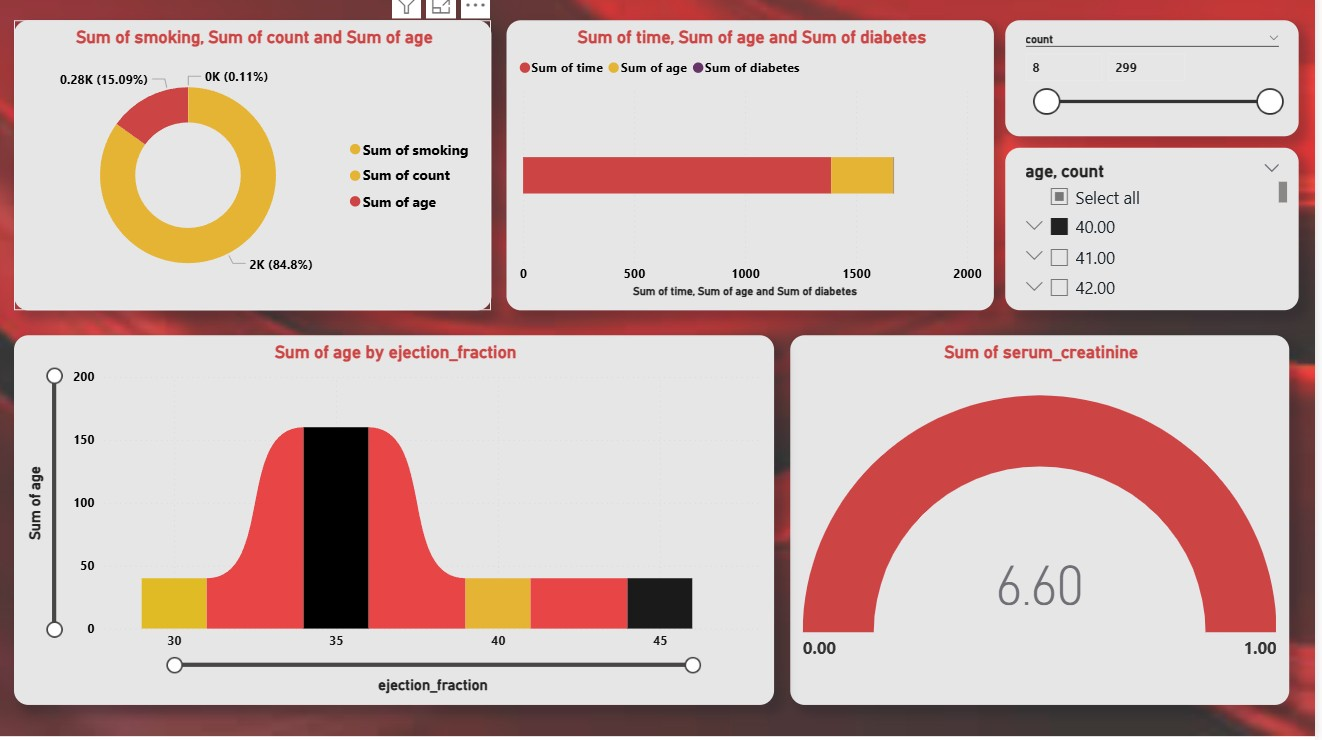

What the dashboard file says about the page in this screenshot:
{"tool":"powerbi","page":{"name":"Page 2","canvas":[1280,720],"ordinal":1},"visuals":[{"type":"donutChart","fields":{"Y":["Sum(heart_Disease_clinical_records_.smoking)","Sum(heart_Disease_clinical_records_.count)","Sum(heart_Disease_clinical_records_.age)"]},"box":[24.1,25.3,460.9,279.9],"z":0},{"type":"barChart","fields":{"Y":["Sum(heart_Disease_clinical_records_.time)","Sum(heart_Disease_clinical_records_.age)","Sum(heart_Disease_clinical_records_.diabetes)"]},"box":[499.5,25.3,470.5,279.9],"z":1000},{"type":"slicer","fields":{"Values":["heart_Disease_clinical_records_.count"]},"box":[980.8,25.3,283.5,112.2],"z":2000},{"type":"slicer","fields":{"Values":["heart_Disease_clinical_records_.age","heart_Disease_clinical_records_.count"]},"box":[980.8,148.4,283.5,156.8],"z":3000},{"type":"gauge","fields":{"Y":["Sum(heart_Disease_clinical_records_.serum_creatinine)"]},"box":[773.3,329.4,481.4,357.1],"z":4000},{"type":"ribbonChart","fields":{"Category":["heart_Disease_clinical_records_.ejection_fraction"],"Y":["Sum(heart_Disease_clinical_records_.age)"]},"box":[24.1,329.4,733.5,357.1],"z":6000}]}

Visuals, with their boxes in screenshot pixels (x1, y1, x2, y2):
donutChart - Sum(heart_Disease_clinical_records_.smoking) x Sum(heart_Disease_clinical_records_.count): locate(12, 13, 496, 307)
barChart - Sum(heart_Disease_clinical_records_.time) x Sum(heart_Disease_clinical_records_.age): locate(511, 13, 1006, 307)
slicer - heart_Disease_clinical_records_.count: locate(1017, 13, 1315, 131)
slicer - heart_Disease_clinical_records_.age x heart_Disease_clinical_records_.count: locate(1017, 142, 1315, 307)
gauge - Sum(heart_Disease_clinical_records_.serum_creatinine): locate(799, 332, 1305, 708)
ribbonChart - heart_Disease_clinical_records_.ejection_fraction x Sum(heart_Disease_clinical_records_.age): locate(12, 332, 783, 708)
